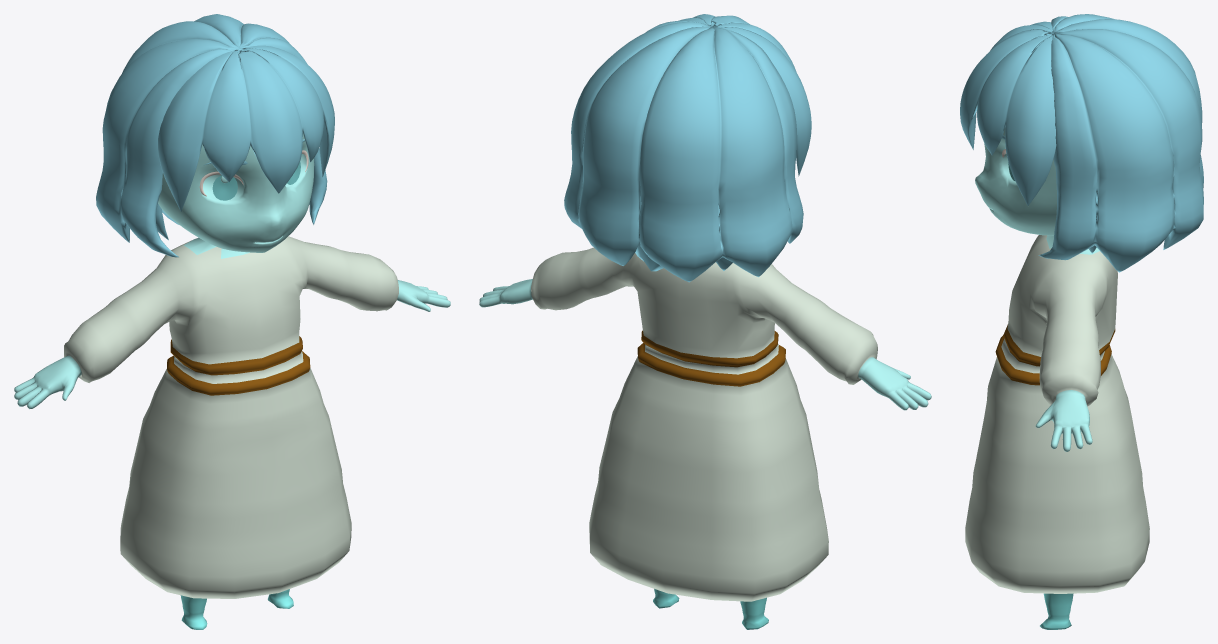
The model's file is Lumen.fbx.
The picture shows the model from 3 angles, left to right: view 1: azimuth 30°, elevation 25°; view 2: azimuth 150°, elevation 25°; view 3: azimuth 270°, elevation 25°; orthographic projection. The views are drawn at different scales.
Parts seen in each view (by area): view 1: friskandchara_reference; view 2: friskandchara_reference; view 3: friskandchara_reference.
Part boxes in pixels (box(x1,y1,x2,y2)): friskandchara_reference: box(14, 14, 450, 629); friskandchara_reference: box(479, 14, 931, 629); friskandchara_reference: box(960, 14, 1203, 629).
Bounding box in the file's own units: 3221 × 4118 × 1568.
